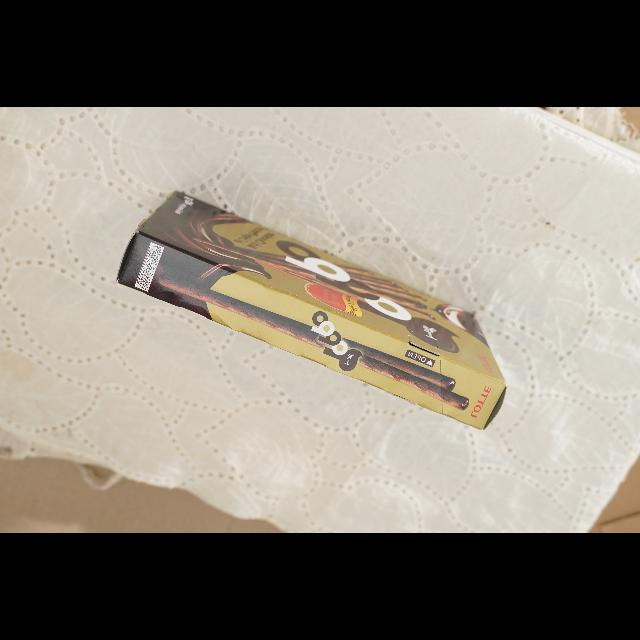banh_toppo_socola: (117, 193, 506, 429)
